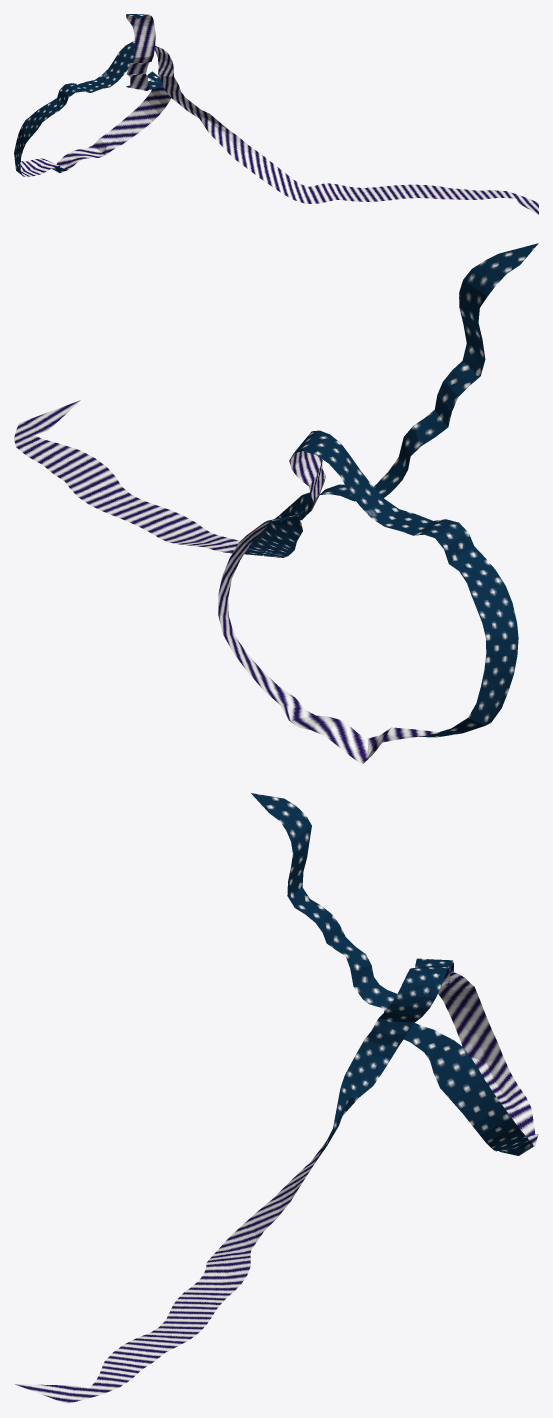
3 renders of one model, top to bottom at view 1: azimuth 30°, elevation 25°; view 2: azimuth 150°, elevation 25°; view 3: azimuth 270°, elevation 25°, orthographic. The views are drawn at different scales.
Visible parts, largest first — view 1: Mesh2; view 2: Mesh2; view 3: Mesh2.
Part boxes in pixels (left/top/right/bottom): Mesh2: left=14, top=14, right=538, bottom=214; Mesh2: left=14, top=243, right=538, bottom=764; Mesh2: left=14, top=793, right=538, bottom=1403.
Bounding box in the file's own units: 2.17 × 1.19 × 1.61.
2 materials, 2 textured.
